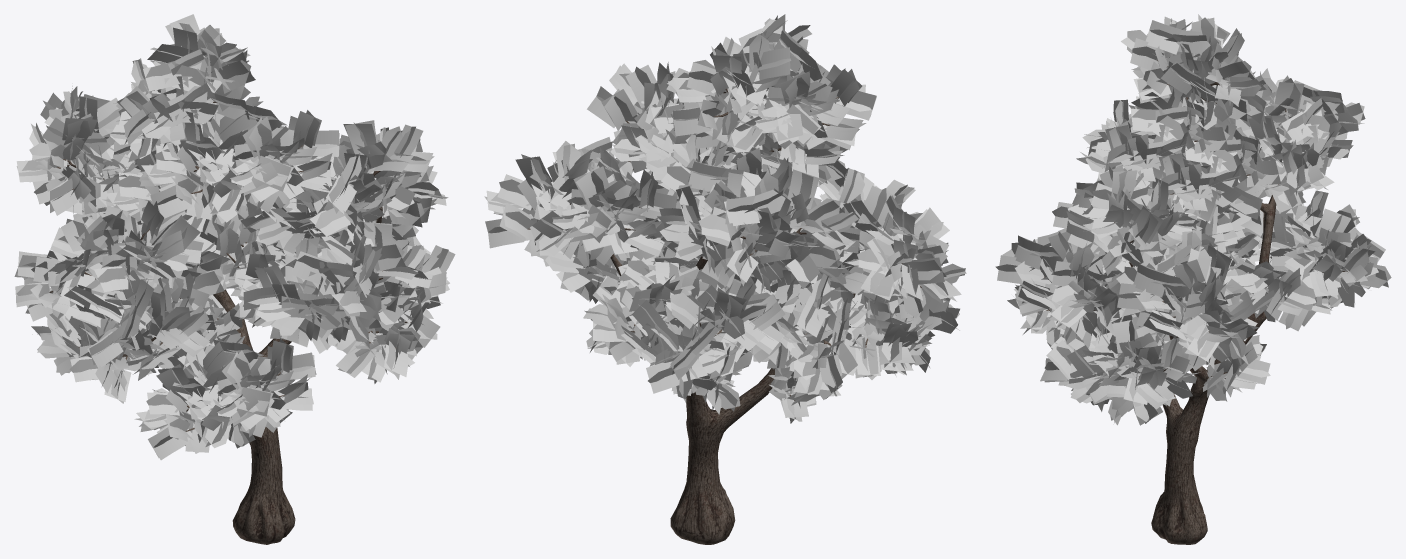
3 renders of one model, left to right at view 1: azimuth 30°, elevation 25°; view 2: azimuth 150°, elevation 25°; view 3: azimuth 270°, elevation 25°, orthographic. The views are drawn at different scales.
Visible parts, largest first — view 1: crown merged, trunk_low; view 2: crown merged, trunk_low; view 3: crown merged, trunk_low.
Boxes of the visible parts, x1,y1,x2,y2 form: crown merged: (14, 14, 455, 460); trunk_low: (213, 207, 382, 544); crown merged: (484, 14, 966, 423); trunk_low: (610, 161, 855, 544); crown merged: (995, 14, 1391, 425); trunk_low: (1108, 97, 1276, 544).
Size of the model in its own units: 14.35 by 16.05 by 11.72.
